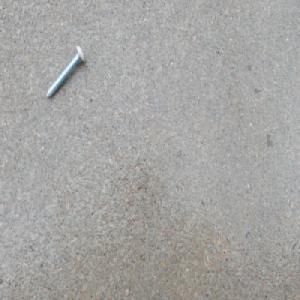Nail: (44, 46, 85, 104)
